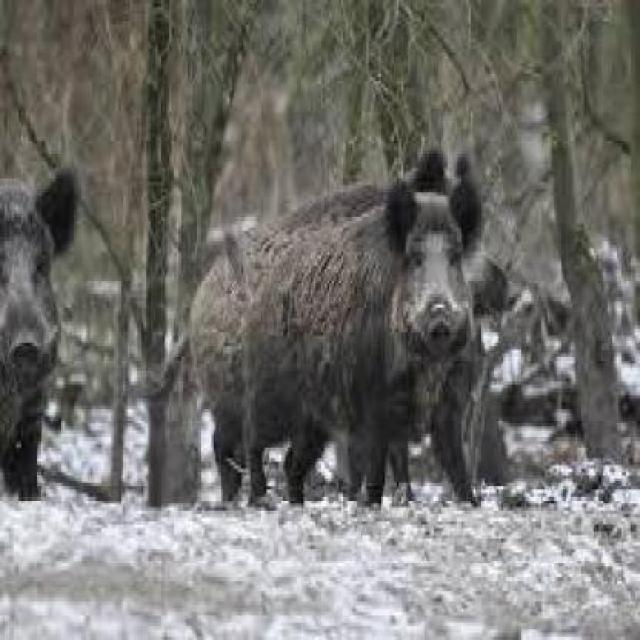wildboar: (186, 166, 486, 532), (229, 146, 514, 519), (0, 164, 78, 504)
